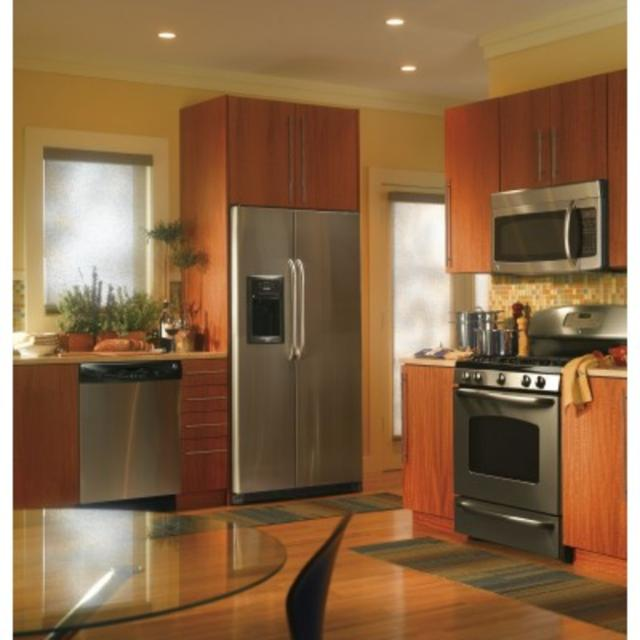oven: (457, 368, 569, 546), (88, 359, 178, 506), (498, 195, 608, 275)
refrigerator: (230, 211, 366, 517)
table: (32, 495, 292, 632)
